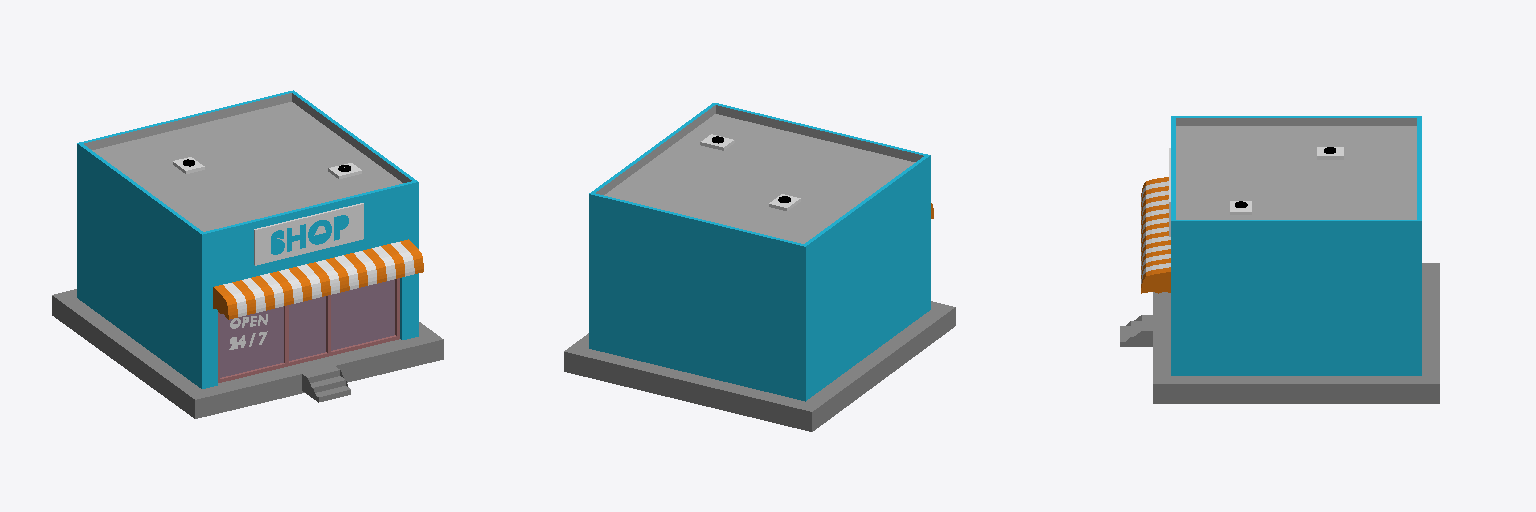
The picture shows the model from 3 angles: view 1: azimuth 30°, elevation 25°; view 2: azimuth 150°, elevation 25°; view 3: azimuth 270°, elevation 25°; orthographic projection.
Visible parts, largest first — view 1: shop; view 2: shop; view 3: shop.
Boxes of the visible parts, box(x1,y1,x2,y2) form: shop: box(52, 90, 443, 418); shop: box(564, 103, 955, 431); shop: box(1120, 116, 1439, 403).
Bounding box in the file's own units: 288 × 194 × 321.
1 materials, 1 textured.